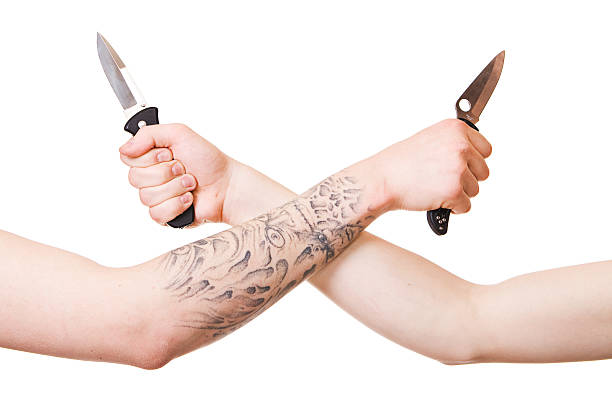knife: (95, 28, 198, 231), (424, 47, 507, 238)
